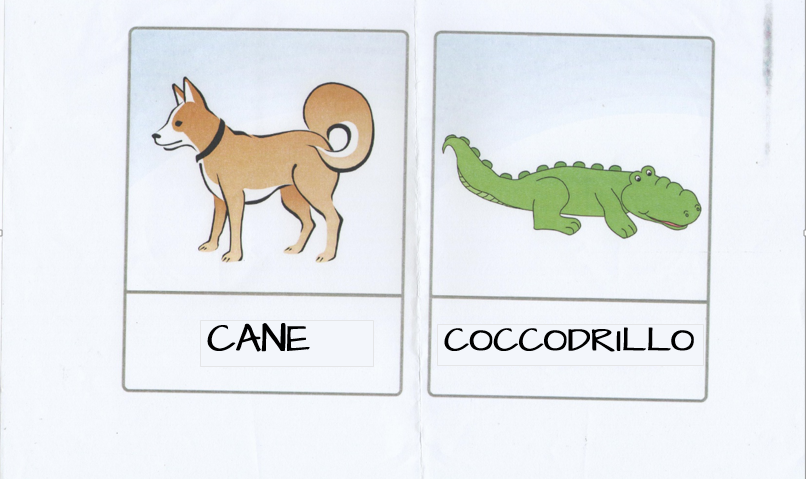cane: (137, 50, 388, 378)
coccodrillo: (439, 48, 706, 377)
